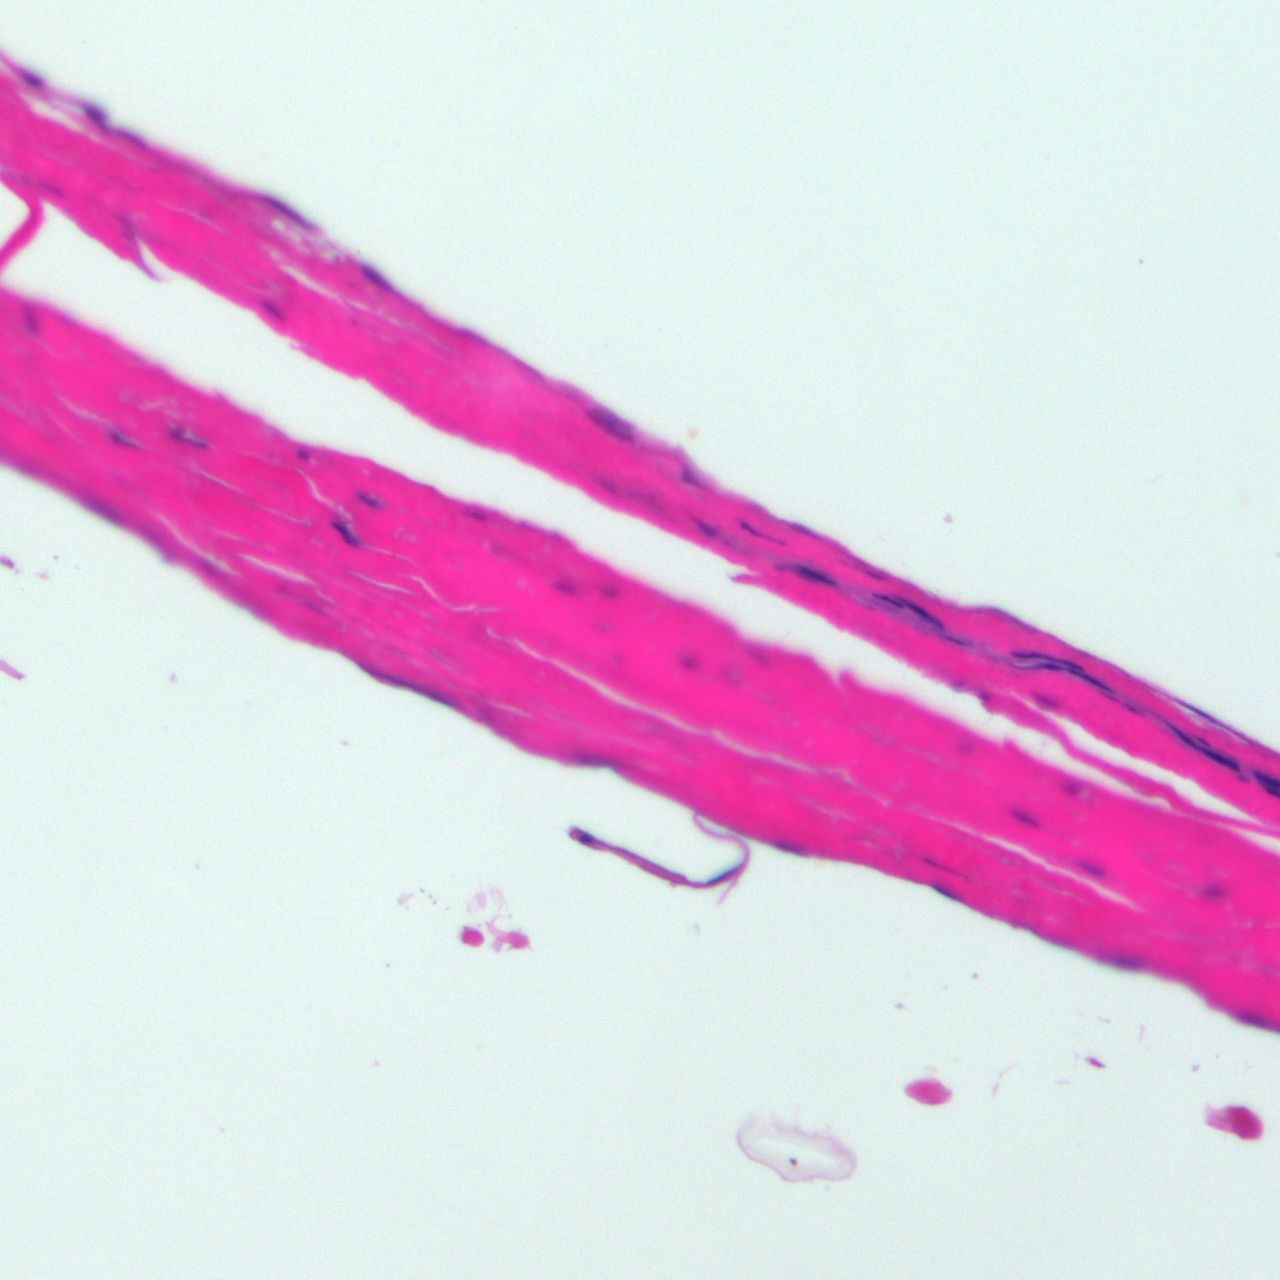nucleus-HE: (1157, 712, 1241, 777), (874, 583, 944, 631), (1012, 644, 1087, 675), (358, 258, 408, 302), (784, 556, 840, 594), (328, 515, 361, 551), (354, 486, 383, 513), (692, 512, 717, 539), (260, 297, 285, 324)
